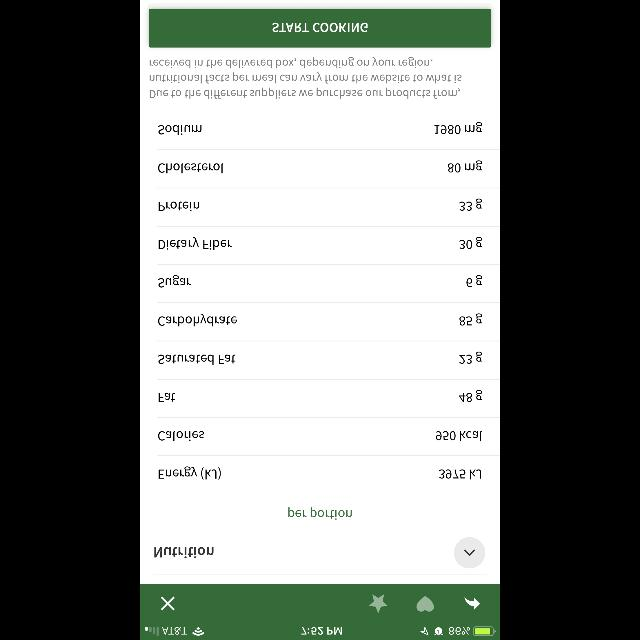icon: (454, 536, 486, 568), (368, 594, 388, 612), (416, 595, 434, 611), (464, 596, 480, 610), (161, 596, 175, 610)
text: (150, 57, 462, 99), (158, 314, 238, 326), (288, 506, 352, 520), (160, 238, 232, 250), (159, 466, 221, 479), (158, 162, 224, 174), (158, 354, 236, 364), (154, 546, 213, 558), (434, 122, 482, 134), (158, 124, 202, 136), (158, 431, 204, 442), (158, 274, 192, 288), (436, 431, 482, 441), (158, 201, 200, 211), (439, 469, 481, 479), (448, 160, 482, 172), (460, 199, 482, 211), (460, 237, 482, 249), (460, 313, 482, 325), (460, 352, 482, 364), (460, 390, 482, 402), (466, 275, 482, 287), (158, 392, 176, 402)
textbutton: (149, 8, 491, 48)
uppertaskbar: (140, 626, 500, 640)
